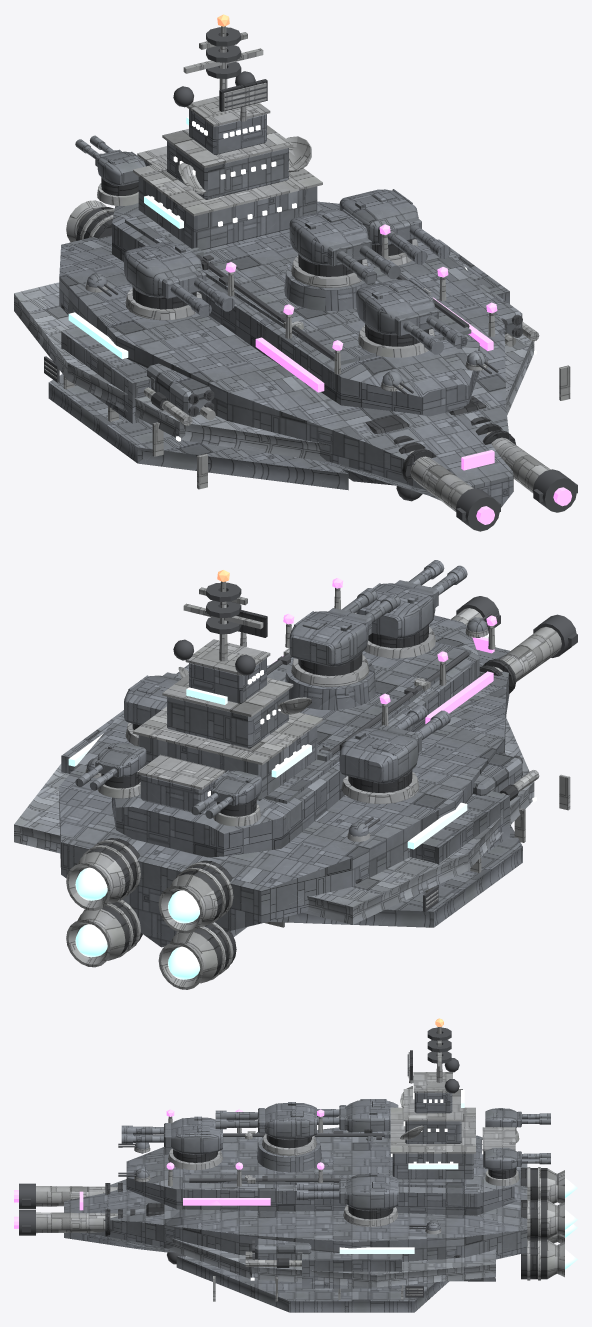
File: iron_dreadnought_wreck.glb
The picture shows the model from 3 angles, top to bottom: view 1: azimuth 30°, elevation 25°; view 2: azimuth 150°, elevation 25°; view 3: azimuth 270°, elevation 25°; orthographic projection. The views are drawn at different scales.
Parts seen in each view (by area): view 1: iron_dreadnought_wreck_00, iron_dreadnought_wreck_07, iron_dreadnought_wreck_12, iron_dreadnought_wreck_04, iron_dreadnought_wreck_19, iron_dreadnought_wreck_05, iron_dreadnought_wreck_10, iron_dreadnought_wreck_13, iron_dreadnought_wreck_06, iron_dreadnought_wreck_03, iron_dreadnought_wreck_08, iron_dreadnought_wreck_17 (+5 smaller); view 2: iron_dreadnought_wreck_01, iron_dreadnought_wreck_05, iron_dreadnought_wreck_07, iron_dreadnought_wreck_17, iron_dreadnought_wreck_10, iron_dreadnought_wreck_00, iron_dreadnought_wreck_19, iron_dreadnought_wreck_15, iron_dreadnought_wreck_13, iron_dreadnought_wreck_08, iron_dreadnought_wreck_09, iron_dreadnought_wreck_06 (+4 smaller); view 3: iron_dreadnought_wreck_09, iron_dreadnought_wreck_15, iron_dreadnought_wreck_03, iron_dreadnought_wreck_04, iron_dreadnought_wreck_18, iron_dreadnought_wreck_10, iron_dreadnought_wreck_01, iron_dreadnought_wreck_02, iron_dreadnought_wreck_06, iron_dreadnought_wreck_16, iron_dreadnought_wreck_19, iron_dreadnought_wreck_08 (+3 smaller).
Part boxes in pixels (box(x1,y1,x2,y2)): iron_dreadnought_wreck_00: box(89, 313, 287, 489); iron_dreadnought_wreck_07: box(99, 116, 296, 280); iron_dreadnought_wreck_12: box(202, 371, 427, 500); iron_dreadnought_wreck_04: box(395, 285, 519, 450); iron_dreadnought_wreck_19: box(115, 243, 297, 338); iron_dreadnought_wreck_05: box(14, 260, 134, 431); iron_dreadnought_wreck_10: box(269, 209, 448, 344); iron_dreadnought_wreck_13: box(274, 291, 409, 411); iron_dreadnought_wreck_06: box(385, 442, 577, 531); iron_dreadnought_wreck_03: box(292, 180, 484, 312); iron_dreadnought_wreck_08: box(173, 14, 293, 158); iron_dreadnought_wreck_17: box(60, 135, 166, 261); iron_dreadnought_wreck_01: box(60, 778, 251, 984); iron_dreadnought_wreck_05: box(283, 794, 481, 927); iron_dreadnought_wreck_07: box(209, 674, 381, 854); iron_dreadnought_wreck_17: box(157, 749, 306, 925); iron_dreadnought_wreck_10: box(270, 588, 431, 710); iron_dreadnought_wreck_00: box(405, 702, 570, 893); iron_dreadnought_wreck_19: box(299, 693, 450, 807); iron_dreadnought_wreck_15: box(78, 667, 217, 818); iron_dreadnought_wreck_13: box(394, 587, 498, 710); iron_dreadnought_wreck_08: box(173, 570, 270, 696); iron_dreadnought_wreck_09: box(14, 735, 138, 858); iron_dreadnought_wreck_06: box(451, 596, 577, 702); iron_dreadnought_wreck_09: box(382, 1190, 516, 1312); iron_dreadnought_wreck_15: box(390, 1093, 550, 1216); iron_dreadnought_wreck_03: box(254, 1146, 403, 1241); iron_dreadnought_wreck_04: box(86, 1125, 228, 1240); iron_dreadnought_wreck_18: box(272, 1240, 408, 1312); iron_dreadnought_wreck_10: box(195, 1102, 336, 1208); iron_dreadnought_wreck_01: box(480, 1153, 577, 1280); iron_dreadnought_wreck_02: box(191, 1198, 285, 1305); iron_dreadnought_wreck_06: box(14, 1179, 126, 1246); iron_dreadnought_wreck_16: box(110, 1192, 260, 1286); iron_dreadnought_wreck_19: box(314, 1099, 396, 1162); iron_dreadnought_wreck_08: box(403, 1018, 464, 1119).
Bounding box in the file's own units: 5.2 × 4.62 × 9.01.
10 materials, 5 textured.
